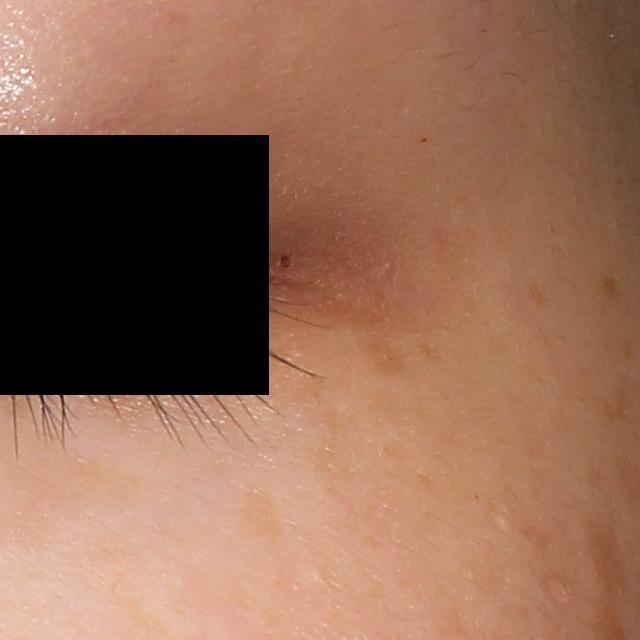melasma: (336, 221, 526, 391), (3, 455, 147, 528), (309, 406, 357, 503), (235, 487, 283, 542), (464, 552, 509, 607), (591, 271, 623, 300)
